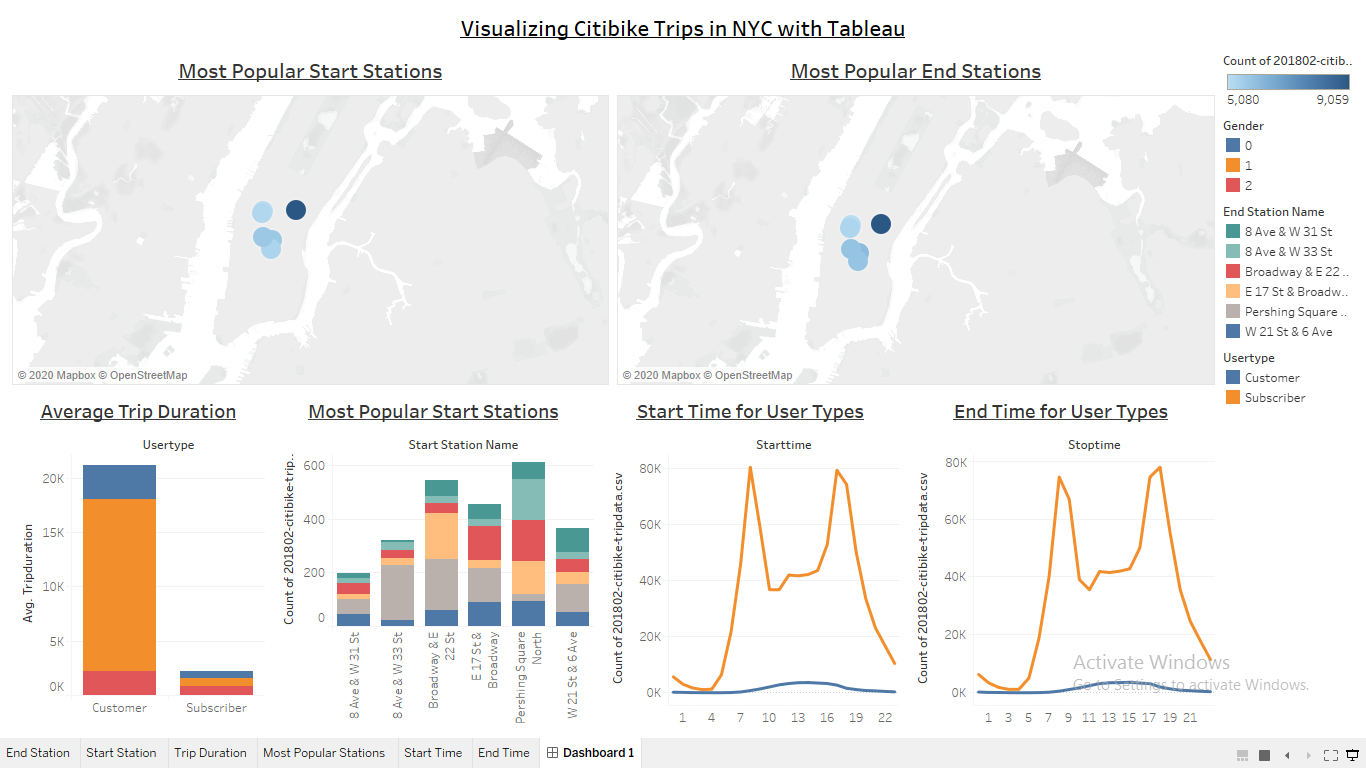

The page's visual inventory and layout, read from the dashboard file:
{"tool":"tableau","page":{"name":"Dashboard 1","canvas":[1000,1000],"units":"permille","ordinal":0},"visuals":[{"type":"worksheet","box":[0,0,1000,1000]},{"type":"worksheet","box":[6.9,13.5,986.1,54.5]},{"type":"worksheet","param":"horz","box":[6.9,68,986.1,918.4]},{"type":"worksheet","box":[6.9,68,865.8,918.4]},{"type":"worksheet","title":"Start Station","mark":"Automatic","rows":["start station latitude"],"cols":["start station longitude"],"box":[6.9,68,432.8,459.1]},{"type":"worksheet","title":"End Station","mark":"Automatic","rows":["end station latitude"],"cols":["end station longitude"],"box":[439.8,68,433,459.1]},{"type":"worksheet","param":"vert","box":[872.7,68,120.4,918.4]},{"type":"worksheet","title":"Start Station","mark":"Automatic","rows":["start station latitude"],"cols":["start station longitude"],"param":"[federated.187zyo11l9wfy91ezx9jk0r7segv].[__tableau_internal_object_id__].[cnt:2","box":[872.7,68,120.4,109.8]},{"type":"worksheet","title":"Trip Duration","mark":"Automatic","rows":["tripduration"],"cols":["usertype"],"param":"[federated.187zyo11l9wfy91ezx9jk0r7segv].[none:gender:ok]","box":[872.7,177.8,120.4,145.3]},{"type":"worksheet","title":"Most Popular Stations","mark":"Automatic","rows":["201802-citibike-tripdata.csv_256BF44C0D3648189AB6D76920489C4"],"cols":["start station name"],"param":"[federated.187zyo11l9wfy91ezx9jk0r7segv].[none:end station name:nk]","box":[872.7,323.1,120.4,246.6]},{"type":"worksheet","title":"Trip Duration","mark":"Automatic","rows":["tripduration"],"cols":["usertype"],"box":[6.9,527.2,186.5,459.3]},{"type":"worksheet","title":"Most Popular Stations","mark":"Automatic","rows":["201802-citibike-tripdata.csv_256BF44C0D3648189AB6D76920489C4"],"cols":["start station name"],"box":[193.4,527.2,235.3,459.3]},{"type":"worksheet","title":"Start Time","mark":"Automatic","rows":["201802-citibike-tripdata.csv_256BF44C0D3648189AB6D76920489C4"],"cols":["starttime"],"box":[428.7,527.2,218.2,459.3]},{"type":"worksheet","title":"End Time","mark":"Automatic","rows":["201802-citibike-tripdata.csv_256BF44C0D3648189AB6D76920489C4"],"cols":["stoptime"],"box":[646.8,527.2,225.9,459.3]},{"type":"worksheet","title":"Start Time","mark":"Automatic","rows":["201802-citibike-tripdata.csv_256BF44C0D3648189AB6D76920489C4"],"cols":["starttime"],"param":"[federated.187zyo11l9wfy91ezx9jk0r7segv].[none:usertype:nk]","box":[872.7,569.7,120.4,111.5]}]}

Visuals, with their boxes on the dashboard's canvas, which has no fixed pixel size, in thousandths of its width and height (x1, y1, x2, y2). These are canvas units, not pixel positions in the 1366x768 screenshot, which may show the page scaled, cropped or inside an application window:
worksheet: bbox=[0, 0, 1000, 1000]
worksheet: bbox=[7, 14, 993, 68]
worksheet: bbox=[7, 68, 993, 986]
worksheet: bbox=[7, 68, 873, 986]
"Start Station" worksheet: bbox=[7, 68, 440, 527]
"End Station" worksheet: bbox=[440, 68, 873, 527]
worksheet: bbox=[873, 68, 993, 986]
"Start Station" worksheet: bbox=[873, 68, 993, 178]
"Trip Duration" worksheet: bbox=[873, 178, 993, 323]
"Most Popular Stations" worksheet: bbox=[873, 323, 993, 570]
"Trip Duration" worksheet: bbox=[7, 527, 193, 986]
"Most Popular Stations" worksheet: bbox=[193, 527, 429, 986]
"Start Time" worksheet: bbox=[429, 527, 647, 986]
"End Time" worksheet: bbox=[647, 527, 873, 986]
"Start Time" worksheet: bbox=[873, 570, 993, 681]
